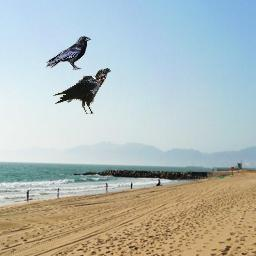Crow: (52, 68, 111, 114), (45, 35, 92, 71)
